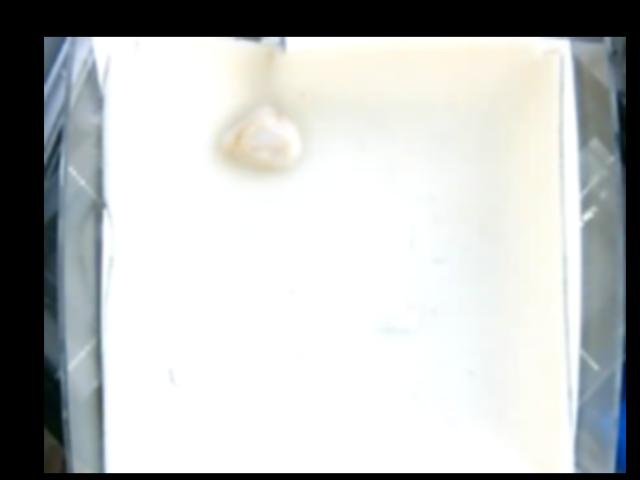Pebble: (219, 101, 303, 171)
